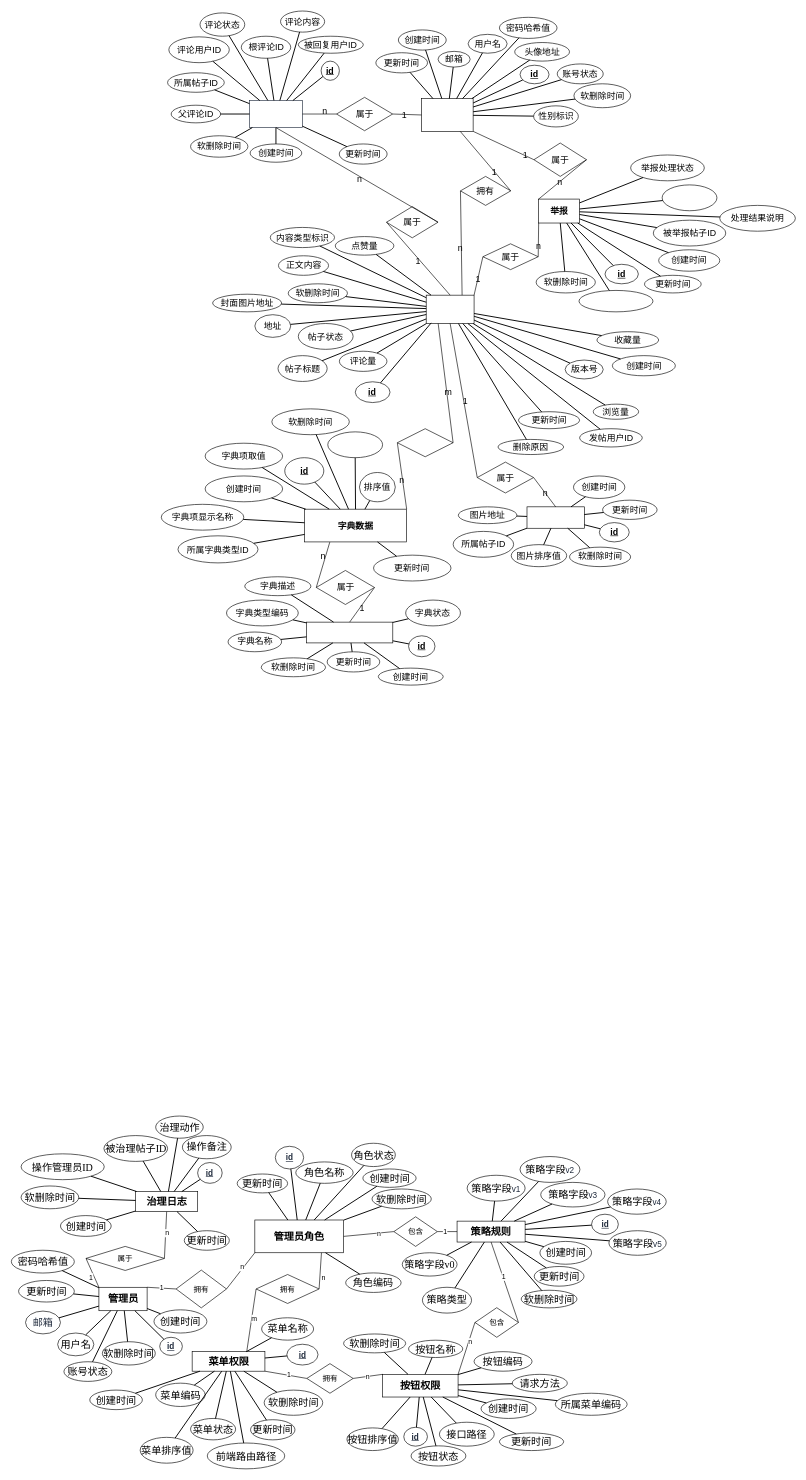
This 806x1480 diagram has some shape labels left out. The centre of each missing label's shape, as x and y in pixels:
举报人用户 ID: (615,301)
举报原因: (689,197)
字典类型: (349,632)
字典项状态: (355,444)
帖子: (450,309)
帖子图片表: (555,517)
用户: (447,114)
评论: (275,114)
选择: (425,442)
